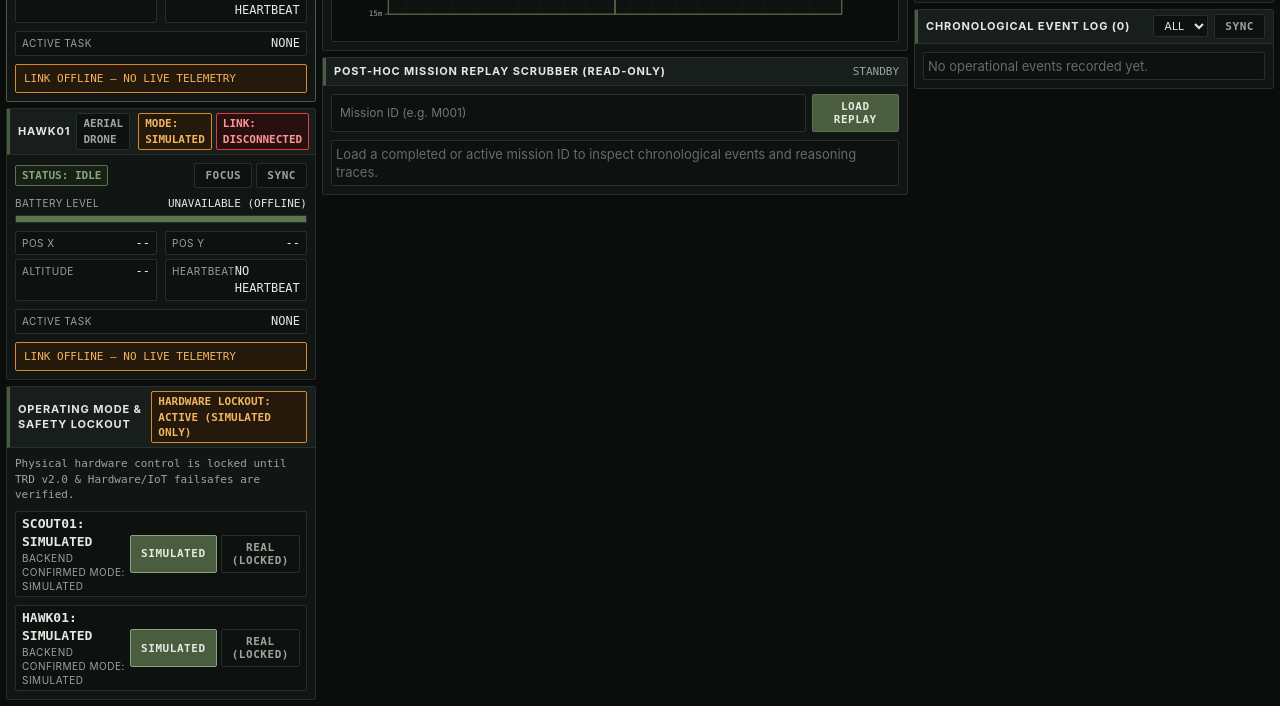
it: Operation Shadow Milestone 5 & 6 Tactical Command Dashboard › handles simulated mode confirmation and displays hardware lockout error when attempting real mode
(page scrolled)
Click the button with aria-label "Set SCOUT01 to Simulated Mode": (173, 554) [130,535,217,573]
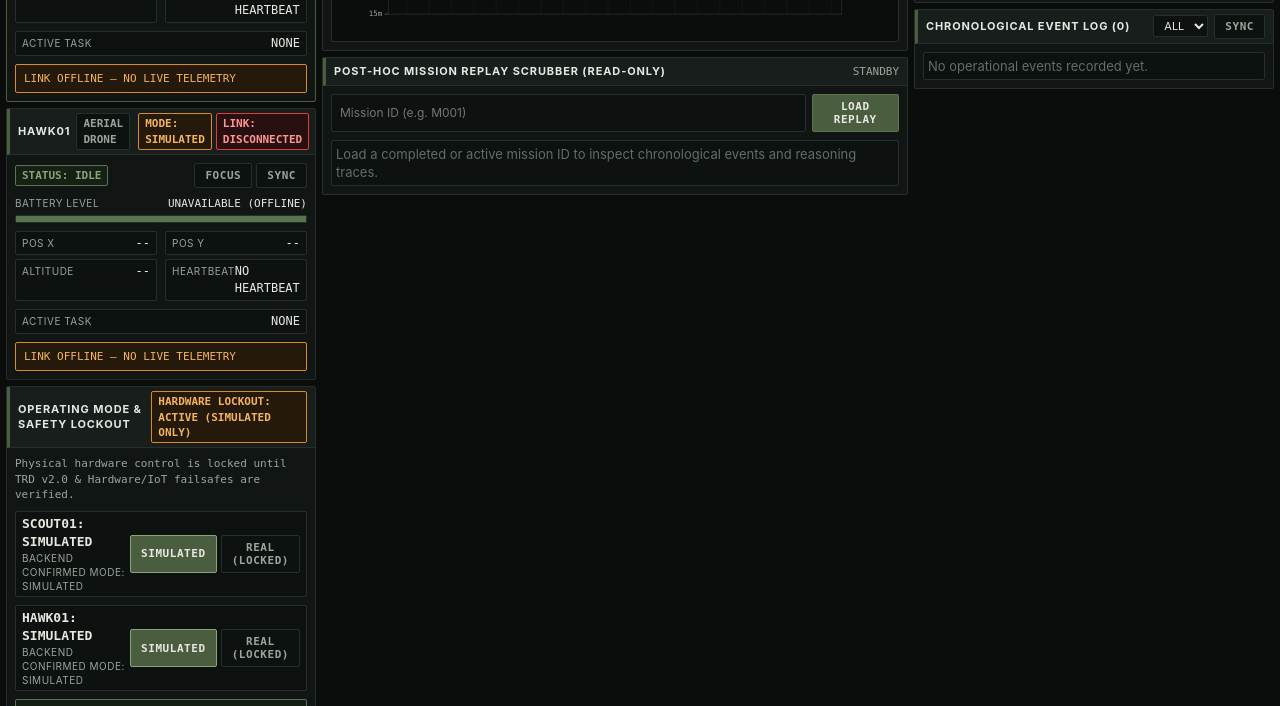
Click the button with aria-label "Attempt Real Hardware Mode for SCOUT01": (260, 554) [221,535,300,573]
(page scrolled)
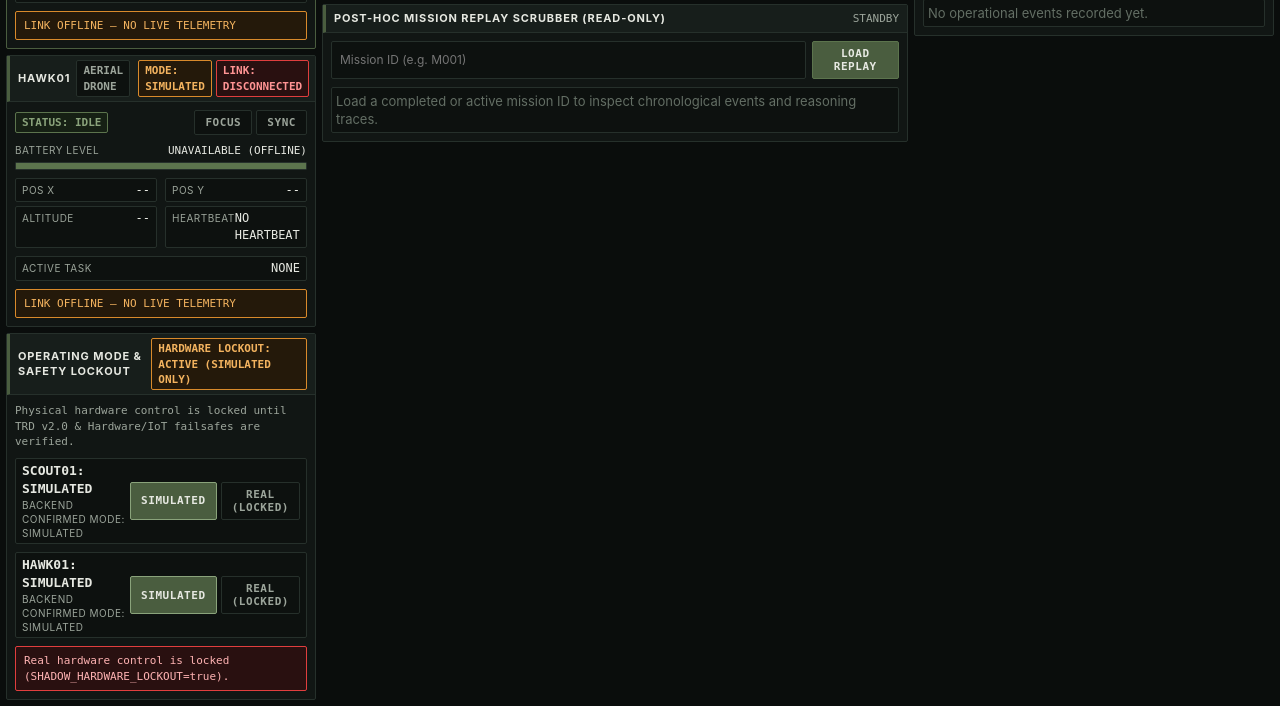
Expected: the text "Real hardware control is locked (SHADOW_HARDWARE_LOCKOUT=true)." is shown, [15,646,307,691]
